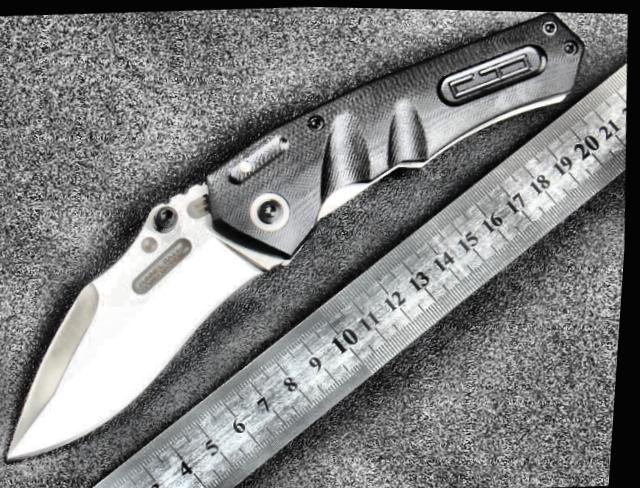knife: (0, 164, 294, 475)
